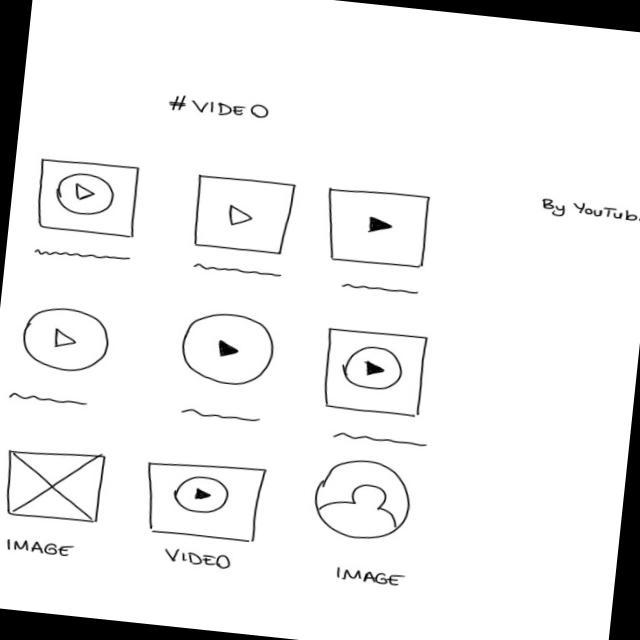image: (308, 455, 418, 546), (1, 444, 111, 528)
label: (165, 91, 273, 123), (538, 195, 640, 228), (1, 536, 79, 561), (162, 547, 238, 572), (334, 565, 409, 590)
text: (32, 246, 134, 267), (331, 429, 431, 450), (177, 405, 265, 427), (192, 260, 286, 280), (8, 390, 92, 410), (340, 281, 428, 298)
